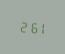one: (37, 20, 45, 34)
six: (28, 19, 36, 34)
two: (18, 19, 26, 33)
